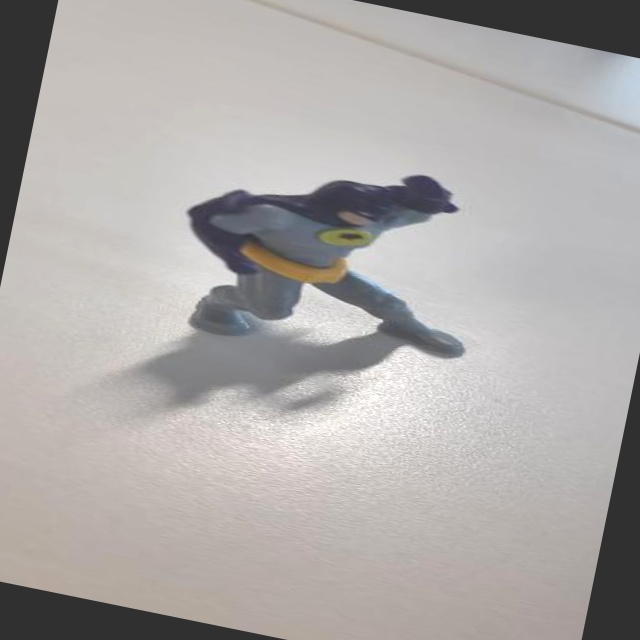Batman: (137, 120, 521, 399)
